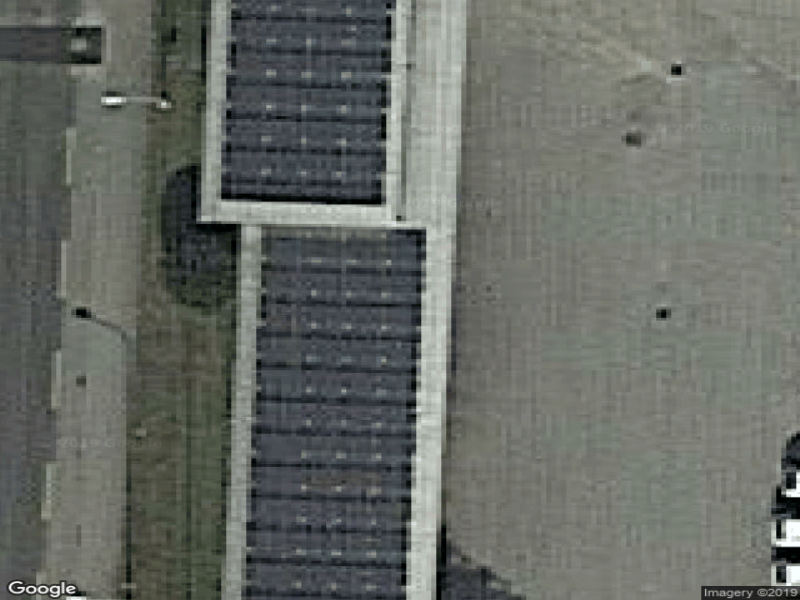pv: (219, 1, 429, 600)
